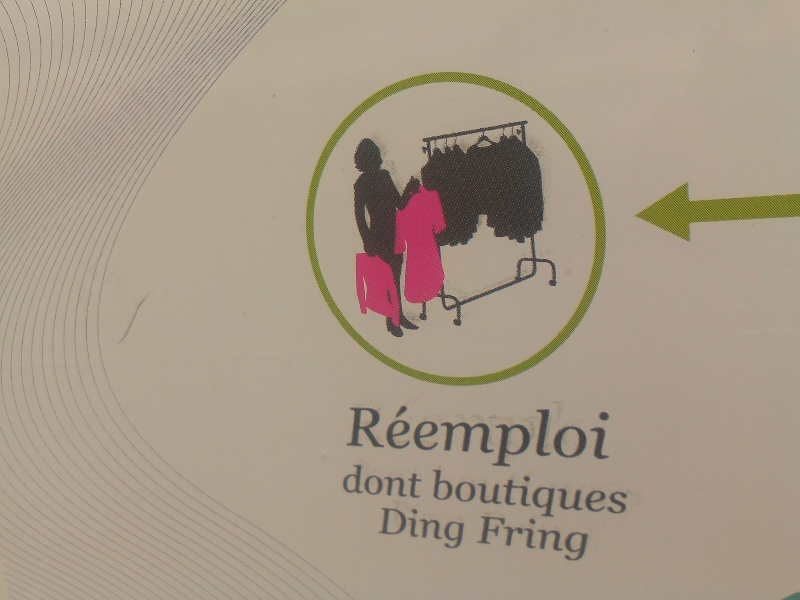text: (353, 399, 368, 474), (369, 399, 384, 474), (385, 399, 400, 474), (401, 399, 416, 474), (417, 399, 432, 474), (433, 399, 448, 474), (449, 399, 464, 474), (465, 399, 480, 474), (481, 399, 496, 474), (497, 399, 512, 474), (513, 399, 528, 474), (529, 399, 544, 474), (545, 399, 560, 474), (561, 399, 576, 474), (577, 399, 592, 474), (593, 399, 608, 474), (433, 468, 448, 528), (449, 468, 464, 528), (465, 468, 480, 528), (481, 468, 496, 528), (497, 468, 512, 528), (513, 468, 528, 528), (529, 468, 544, 528), (545, 468, 560, 528), (561, 468, 576, 528), (577, 468, 592, 528), (593, 468, 608, 528), (609, 468, 624, 528), (481, 511, 496, 565), (497, 511, 512, 565), (513, 511, 528, 565), (529, 511, 544, 565), (545, 511, 560, 565), (561, 511, 576, 565), (577, 511, 592, 565), (385, 502, 400, 551), (401, 502, 416, 551), (417, 502, 432, 551), (433, 502, 448, 551), (449, 502, 464, 551), (353, 463, 368, 499), (369, 463, 384, 499), (385, 463, 400, 499), (401, 463, 416, 499), (625, 468, 633, 528), (609, 399, 614, 474), (417, 463, 425, 499), (349, 399, 352, 474), (346, 463, 352, 499), (381, 502, 384, 551), (465, 502, 467, 551), (593, 511, 594, 565)
